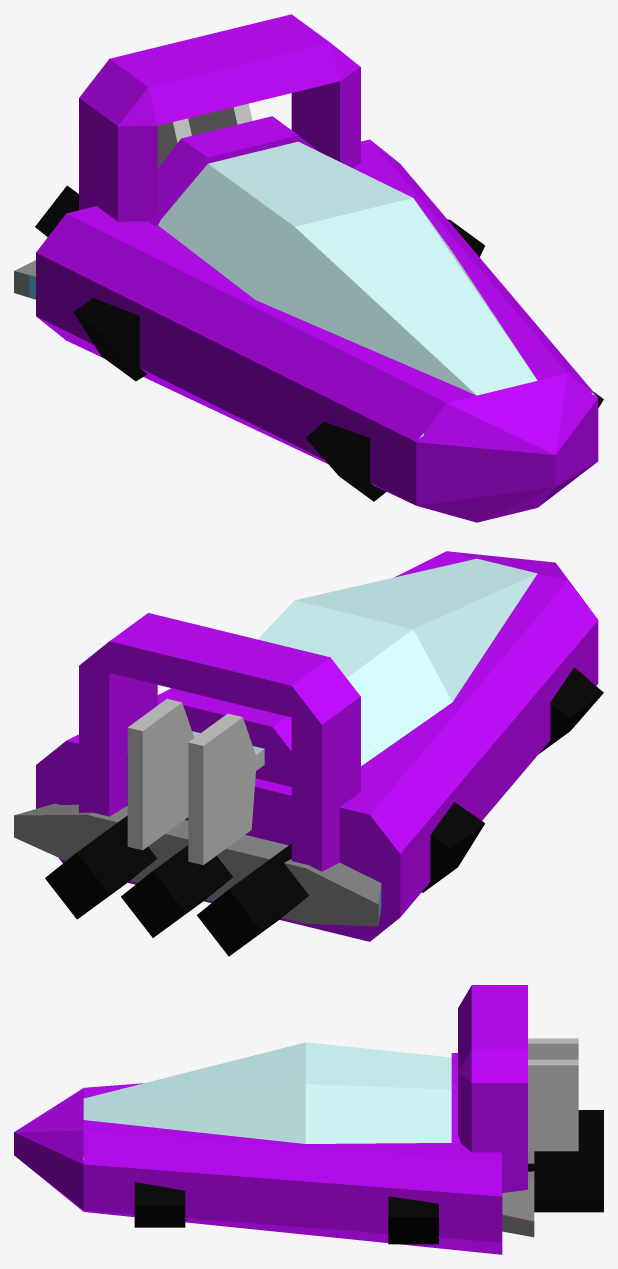
Rendered from STRGN.gltf.
3 views of the same model, one above another, from view 1: azimuth 30°, elevation 25°; view 2: azimuth 150°, elevation 25°; view 3: azimuth 270°, elevation 25° (orthographic). The views are drawn at different scales.
Parts seen in each view (by area): view 1: body, window, spoiler, b_right, f_right, rudder_1, thrusters, rudder_2, thruster_housing; view 2: body, spoiler, window, thrusters, thruster_housing, rudder_2, rudder_1, b_right, f_right; view 3: body, window, spoiler, thrusters, rudder_1, b_left, f_left, thruster_housing, rudder_2.
Part boxes in pixels (box(x1,y1,x2,y2)): body: box(36, 116, 598, 522); window: box(158, 141, 537, 395); spoiler: box(79, 14, 360, 221); b_right: box(74, 298, 146, 381); f_right: box(306, 422, 386, 501); rudder_1: box(188, 103, 252, 135); thrusters: box(35, 185, 78, 236); rudder_2: box(157, 118, 191, 168); thruster_housing: box(14, 260, 35, 299); body: box(36, 551, 598, 941); spoiler: box(79, 613, 360, 871); window: box(257, 558, 537, 765); thrusters: box(45, 815, 308, 956); thruster_housing: box(14, 803, 381, 926); rudder_2: box(188, 713, 264, 865); rudder_1: box(127, 698, 200, 850); b_right: box(422, 802, 484, 892); f_right: box(538, 667, 603, 754); body: box(14, 1053, 502, 1254); window: box(83, 1042, 451, 1143); spoiler: box(458, 985, 527, 1192); thrusters: box(528, 1110, 603, 1212); rudder_1: box(528, 1059, 578, 1151); b_left: box(388, 1196, 438, 1244); f_left: box(134, 1182, 185, 1227); thruster_housing: box(502, 1151, 534, 1237); rudder_2: box(528, 1038, 578, 1059).
Bounding box in the file's own units: 0.7756 × 0.5 × 1.45.
1 material, 1 textured.
